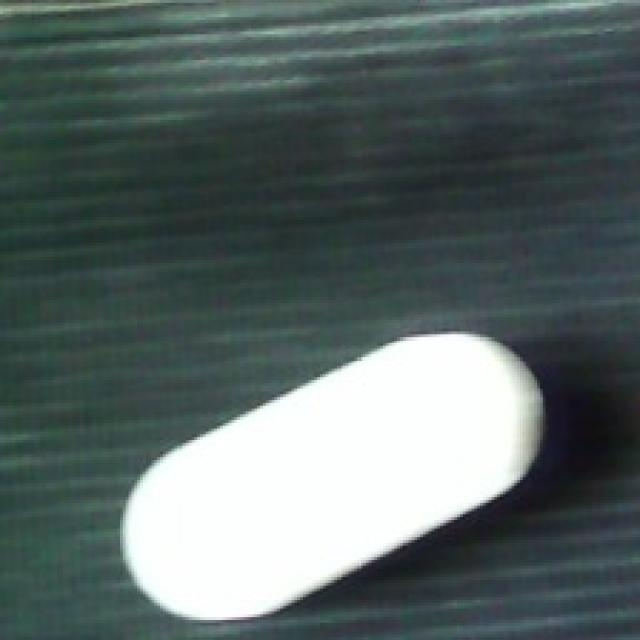no-defect: (114, 323, 549, 626)
